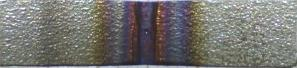soldas: (98, 2, 202, 65)
